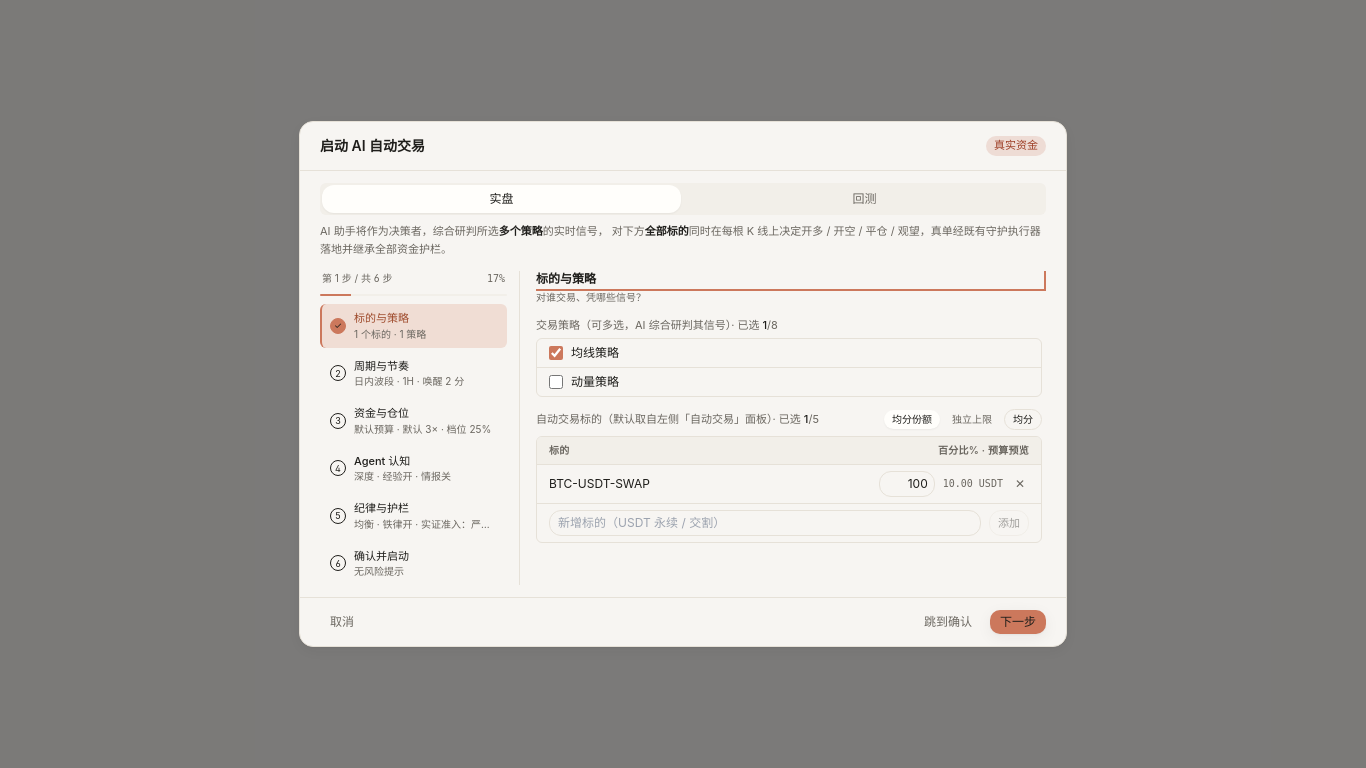
it: 轴 B · 导航契约 › W-12 第 6 步逐组摘要各带一个「修改」按钮，点击跳回对应步
Expected: the text "均线策略" is shown, top-left (571, 345), bottom-right (619, 361)
Click the tab "6 确认并启动 无风险提示" at (414, 563), box top-left (320, 542), bottom-right (507, 585)
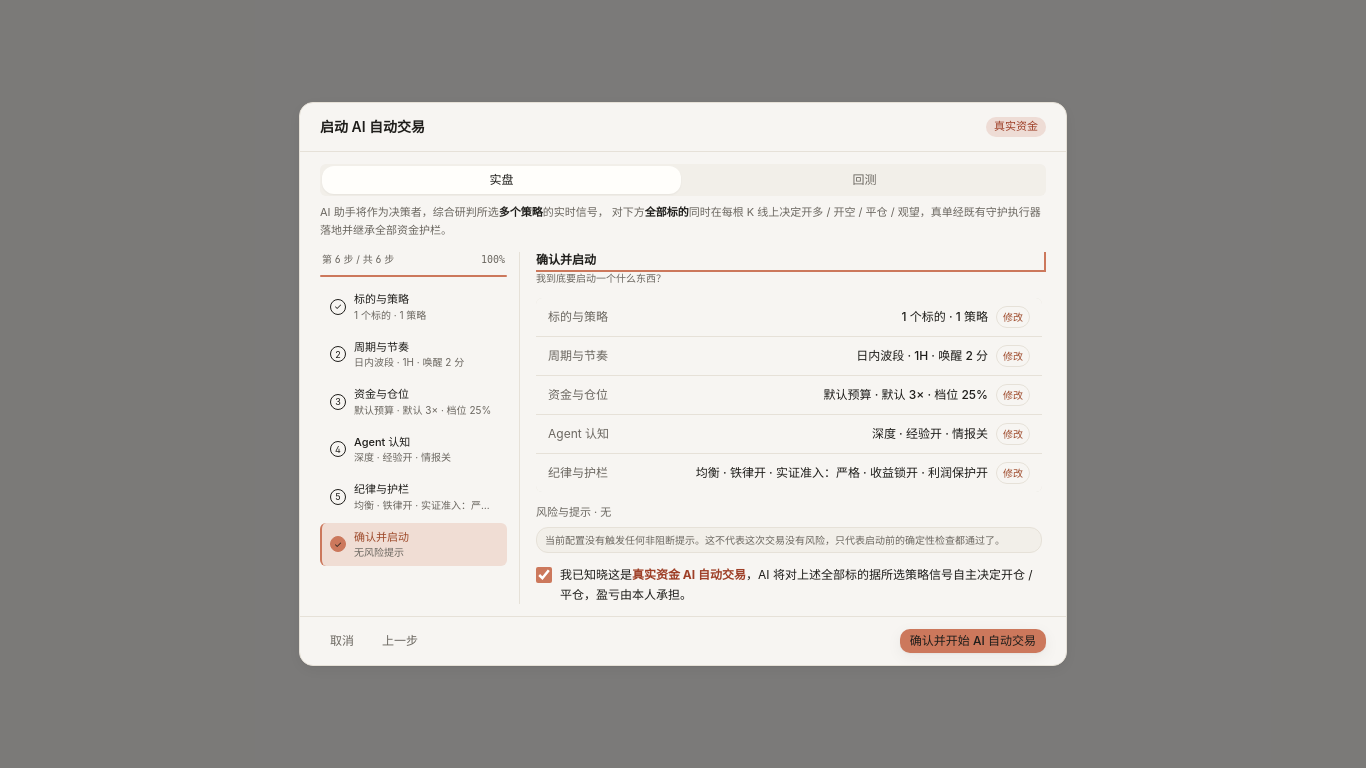
Expected: the element with test id "ai-launch-summary-cognition" is shown, top-left (536, 415), bottom-right (1042, 453)
Click the button with aria-label "修改资金与仓位" at (1013, 395), box top-left (996, 384), bottom-right (1030, 406)
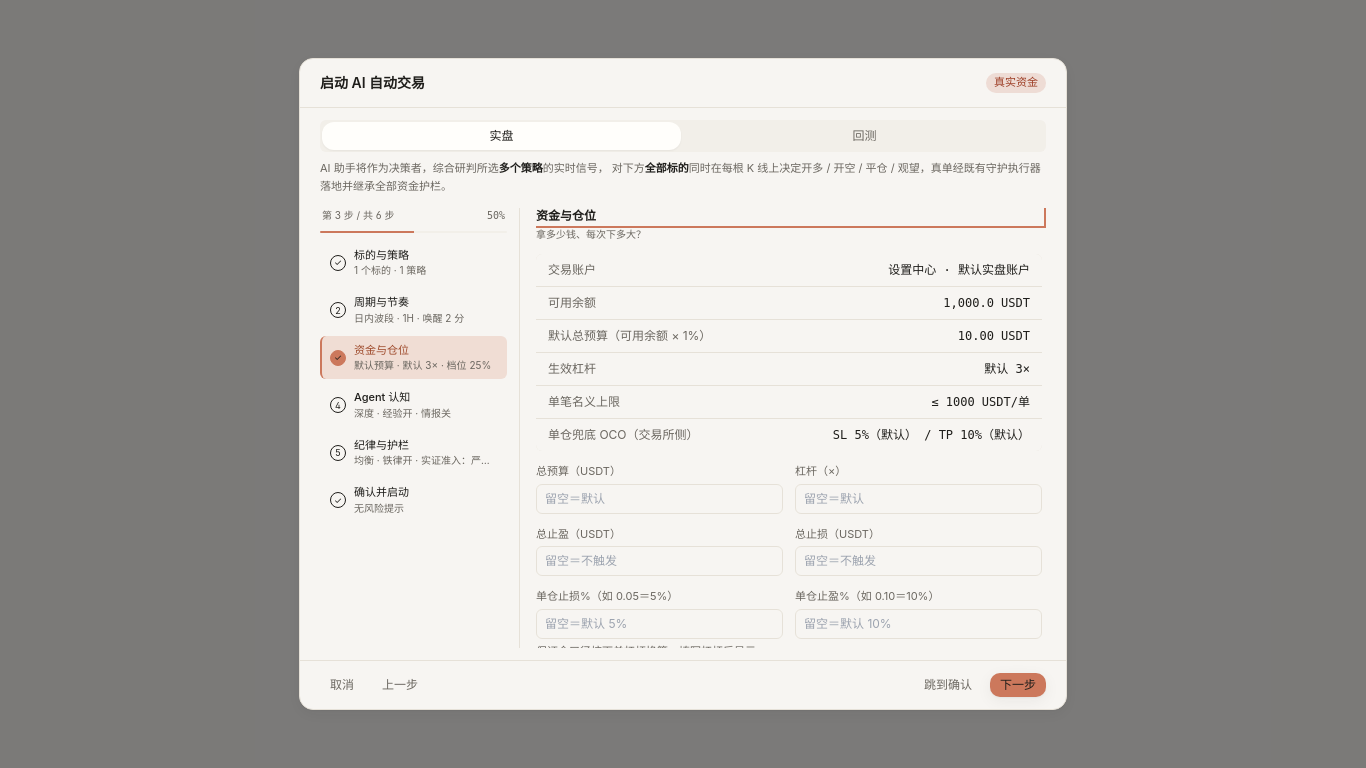
Expected: the field labelled "杠杆（×）" is shown, top-left (795, 484), bottom-right (1042, 514)
